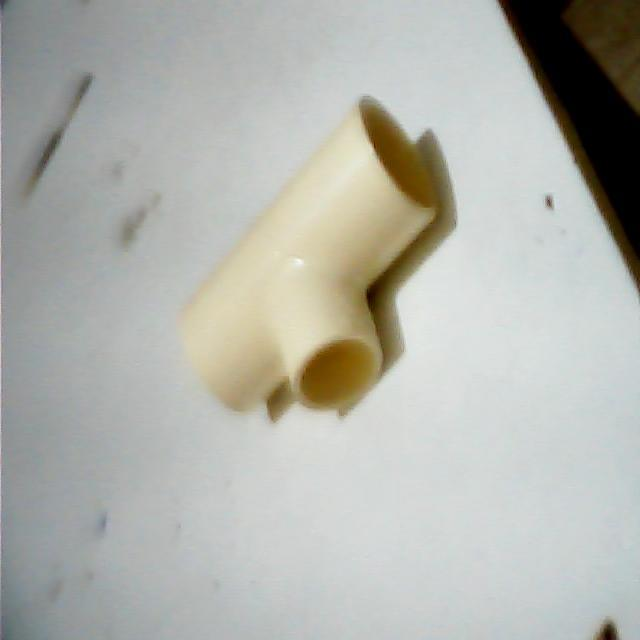T Joint: (179, 96, 441, 412)
